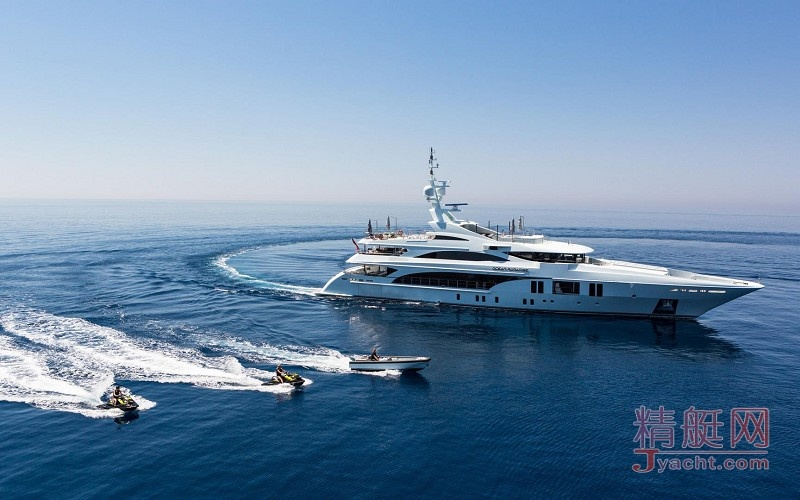otherboat: (346, 349, 430, 373)
yacht: (314, 152, 767, 321)
